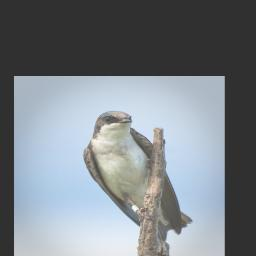Swallow: (83, 110, 194, 242)
